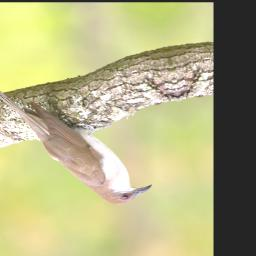Cuckoo: (0, 42, 157, 226)
